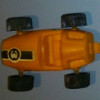naranja: (2, 15, 98, 89)
